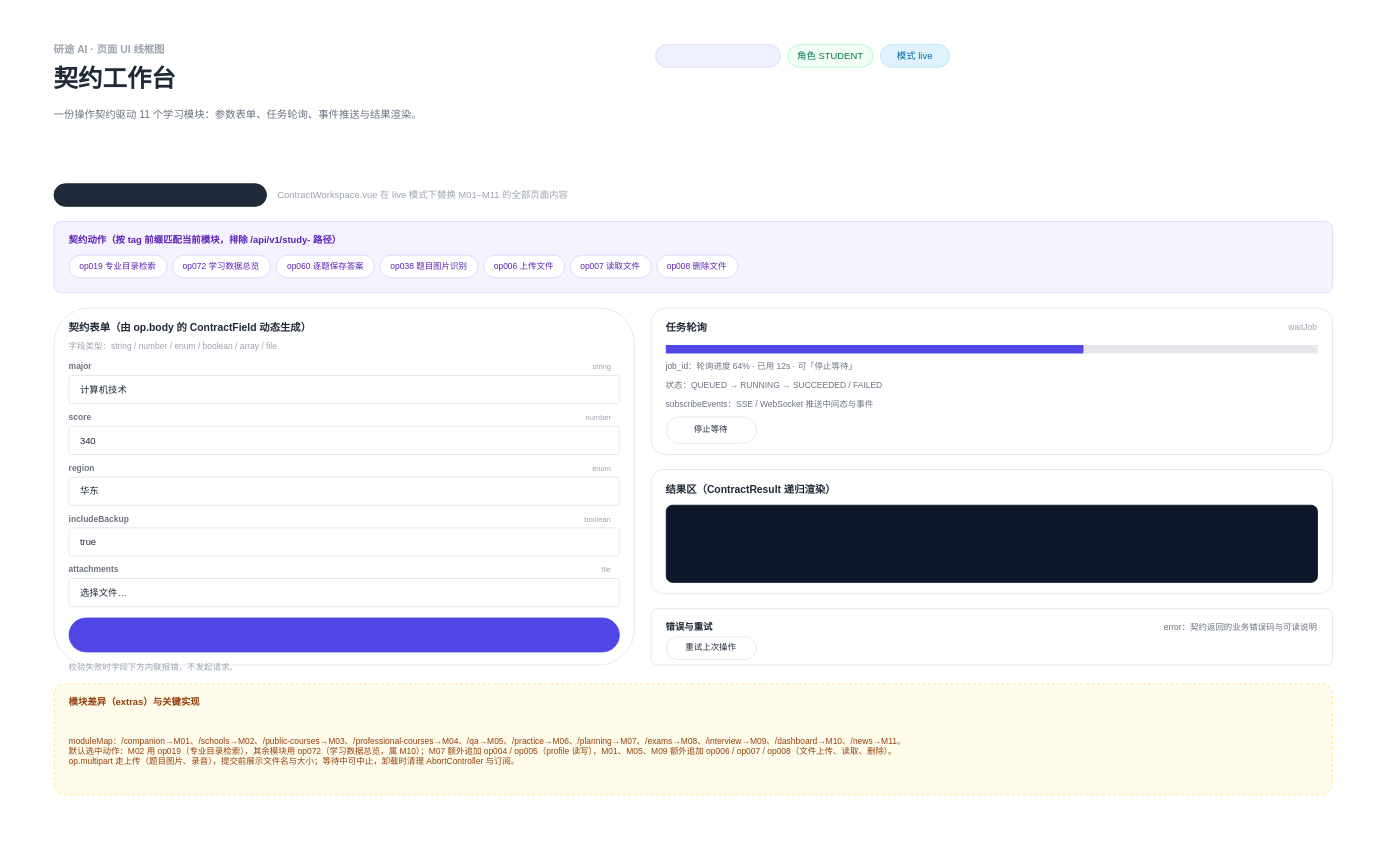
Some shapes in this 1387 by 854 pixel diagram are drawn without their labels. Each missing label, with the box of its shape:
{ "items": [ { "school": "华东师范大学", "line": 355 } ], "note": "来源与口径以接口返回为准" }: (665, 504, 1317, 582)
执行契约操作: (68, 617, 619, 652)
真实模式 · 契约工作台: (53, 183, 266, 206)
路由 M01–M11（live）: (655, 44, 780, 67)
